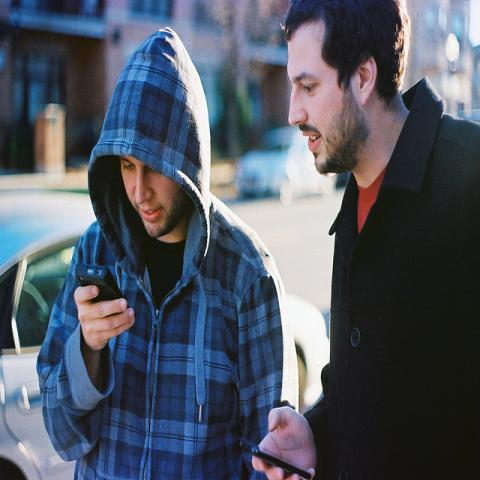car: (0, 193, 331, 479), (234, 128, 339, 206)
